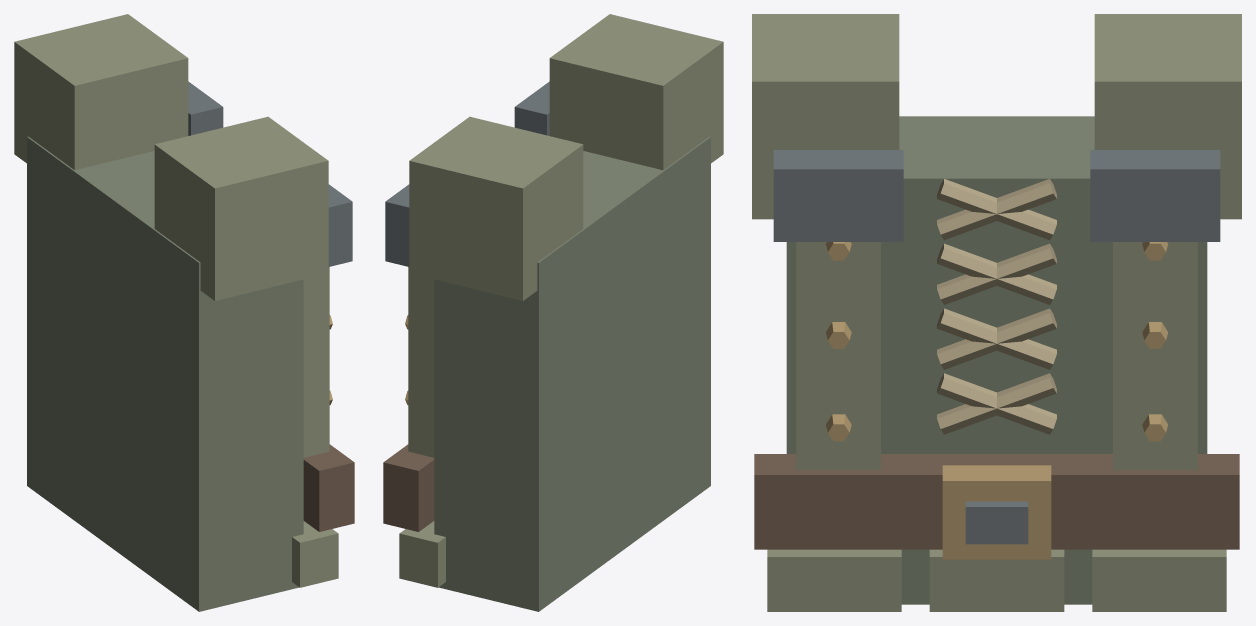
File: ghoul-leather-vest.glb
3 renders of one model, left to right at view 1: azimuth 30°, elevation 25°; view 2: azimuth 150°, elevation 25°; view 3: azimuth 270°, elevation 25°, orthographic. The views are drawn at different scales.
Parts seen in each view (by area): view 1: ghoul-leather-vest; view 2: ghoul-leather-vest; view 3: ghoul-leather-vest.
Part boxes in pixels (x1,y1,x2,y2): ghoul-leather-vest: (14,14,354,611); ghoul-leather-vest: (383,14,723,611); ghoul-leather-vest: (752,14,1241,611).
Bounding box in the file's own units: 0.1115 × 0.2695 × 0.226.
